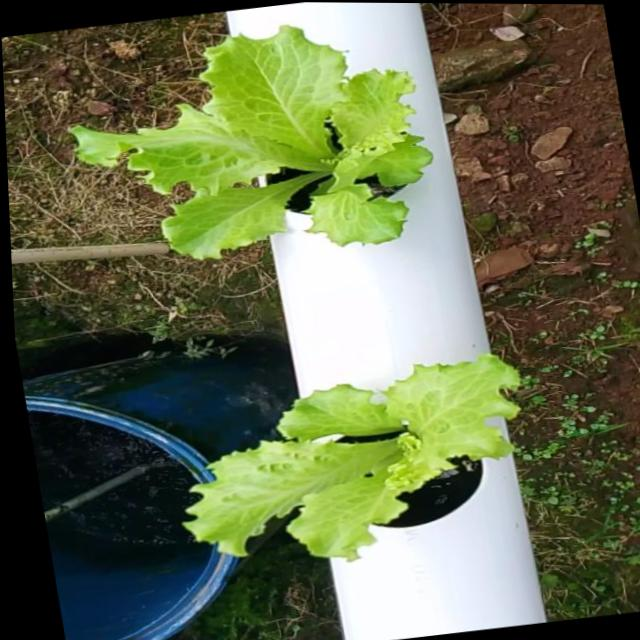Baby: (74, 15, 438, 255), (186, 352, 528, 561)
